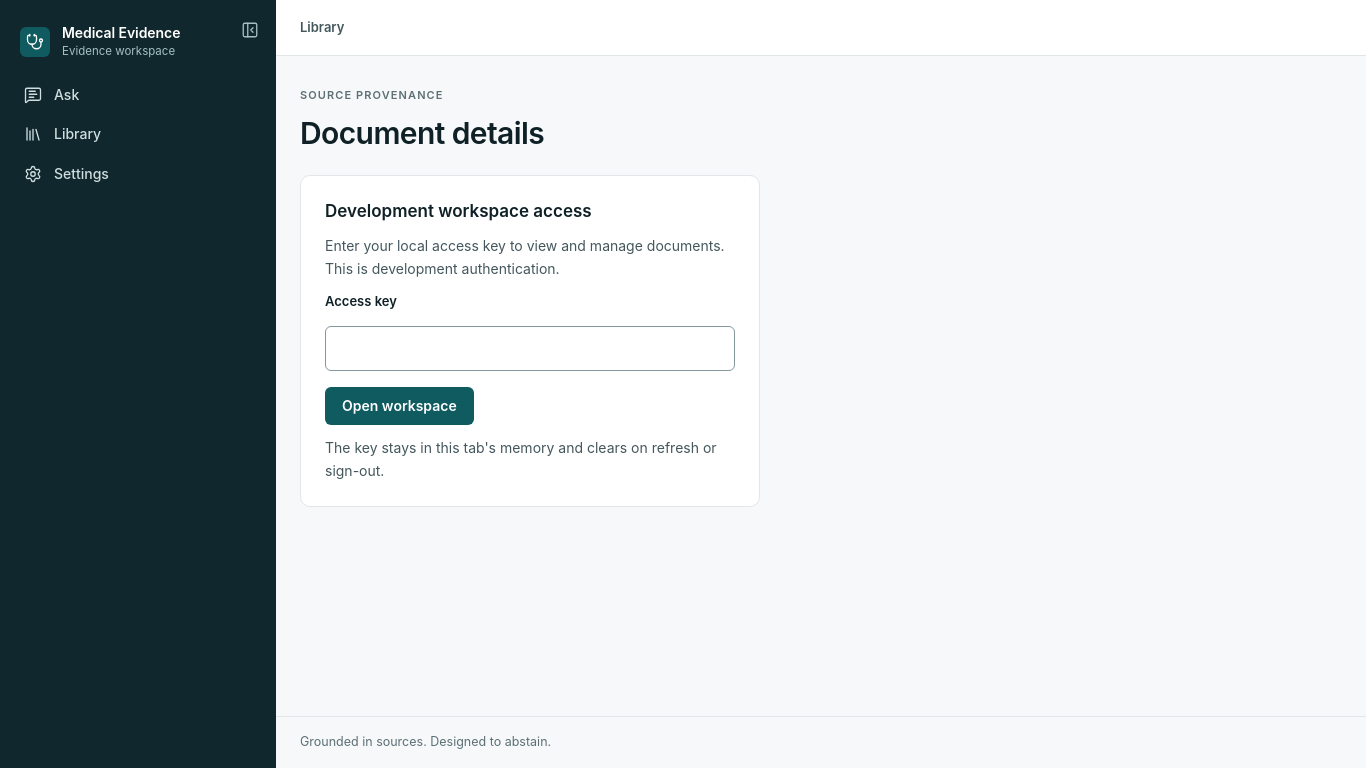
Test case: processing progress › reports a stopped document's processing time as its stages' time, not the last pass
The width and height of the screenshot is (1366, 768).
In the password field labelled "Access key": (530, 349) [325,326,735,371], type "local-test-key"
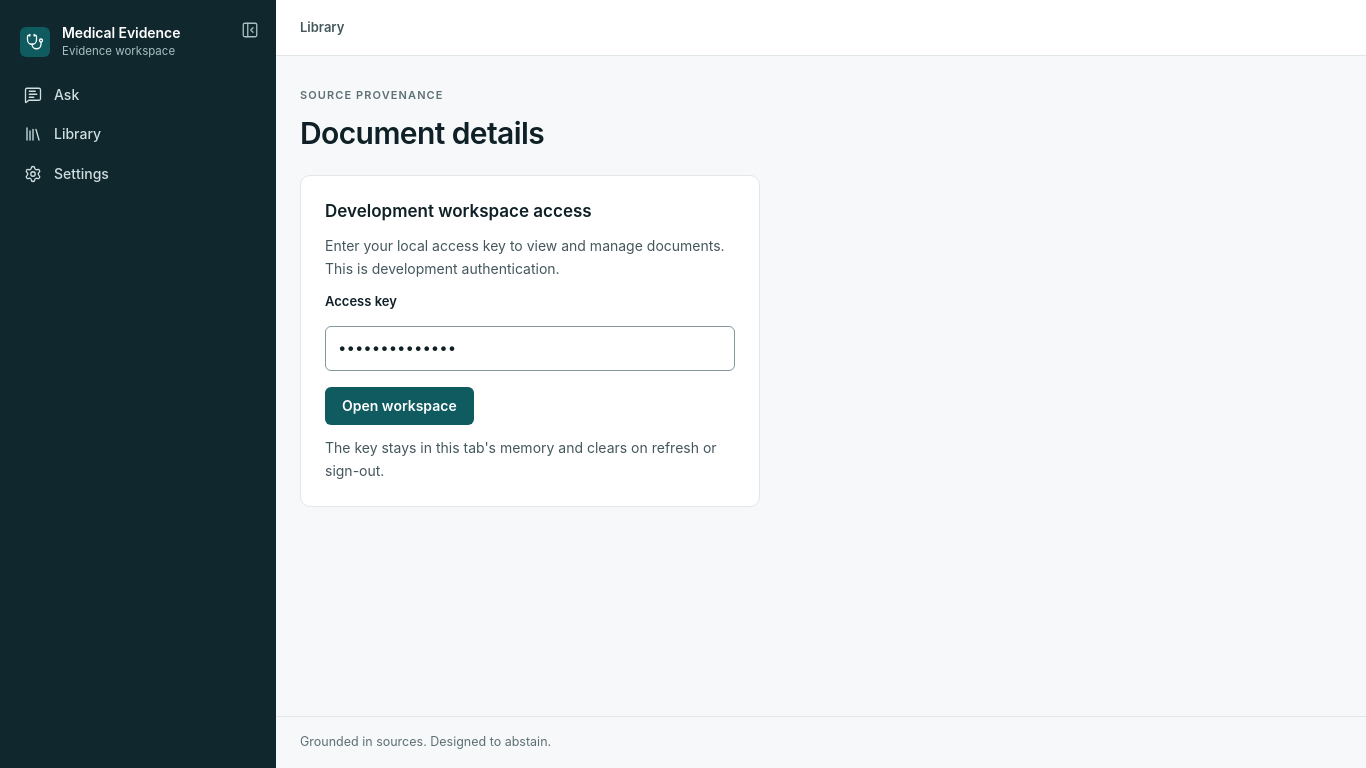
Click the button "Open workspace": click(399, 406) [325,387,474,425]
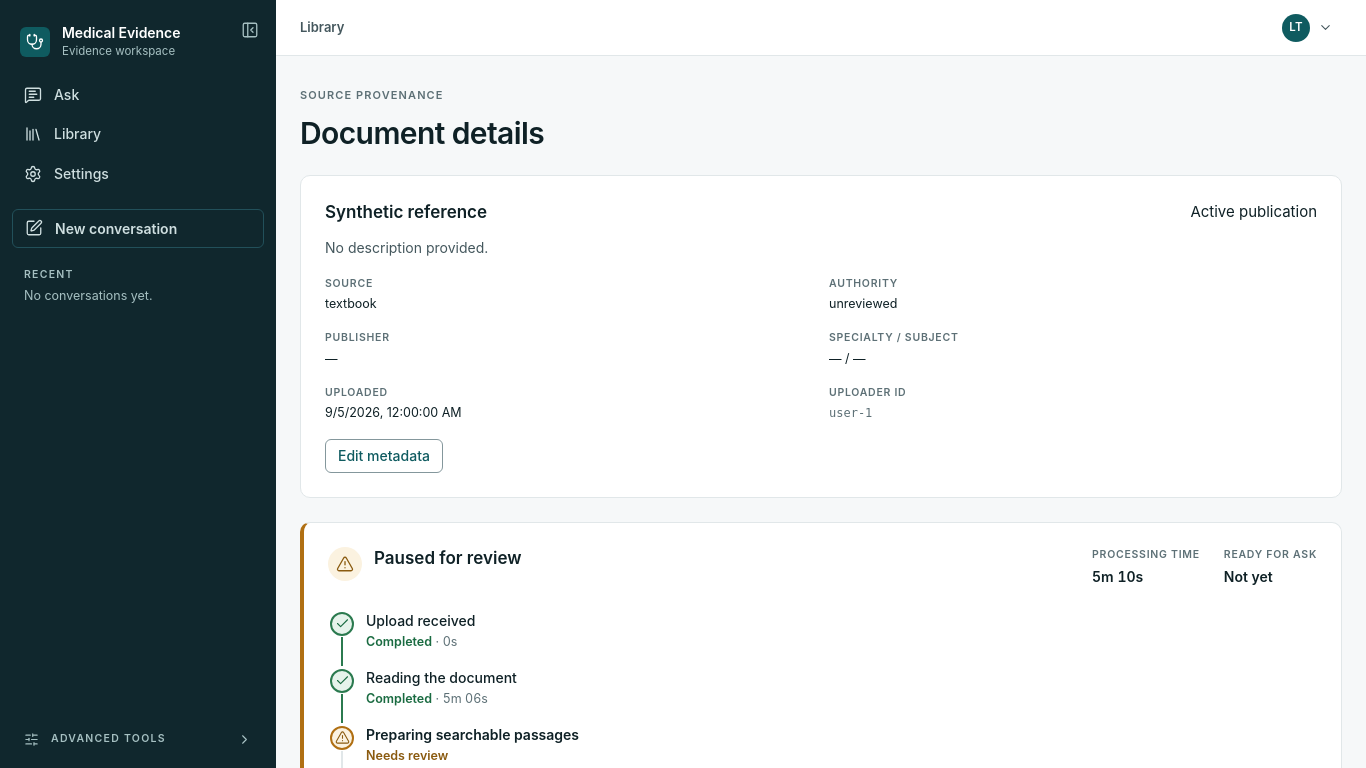
expect the button named "Account and workspace" is shown: met, box [1277,8,1342,46]
expect the element showing "5m 10s" is shown: met, box [1092,568,1143,585]
